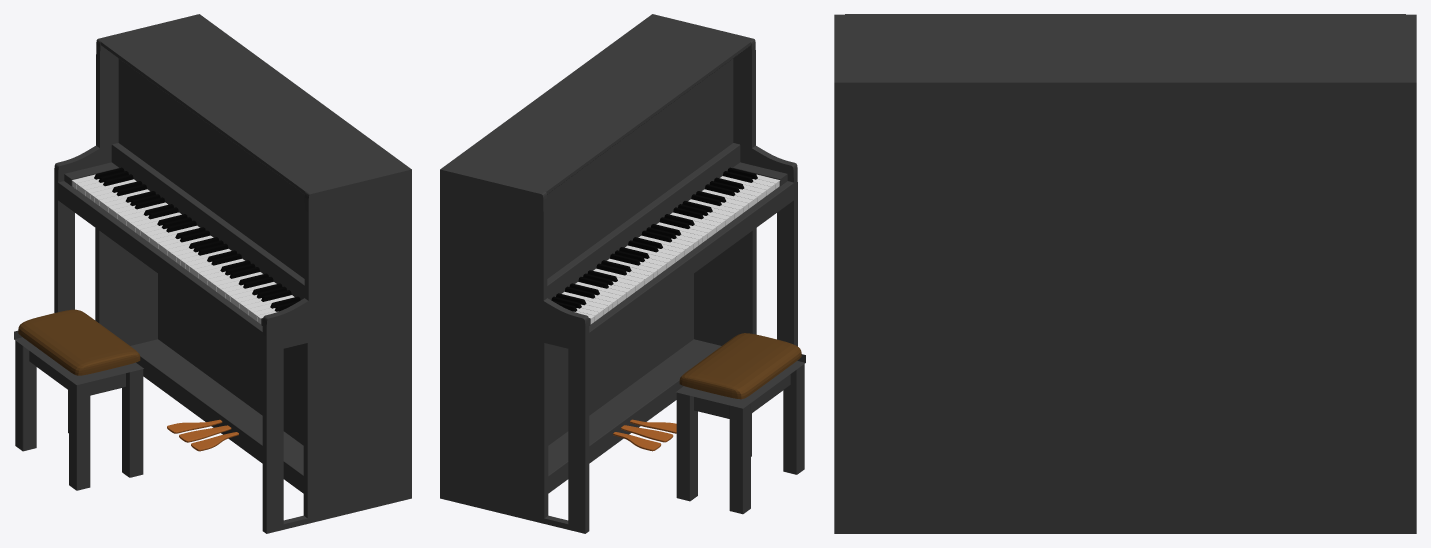
The model's file is Piano.fbx.
3 views of the same model, side by side, from view 1: azimuth 30°, elevation 25°; view 2: azimuth 150°, elevation 25°; view 3: azimuth 270°, elevation 25° (orthographic). The views are drawn at different scales.
Visible parts, largest first — view 1: PianoSeat; view 2: PianoSeat; view 3: PianoSeat.
Boxes of the visible parts, left/top/right/bottom form: PianoSeat: left=14, top=14, right=411, bottom=533; PianoSeat: left=440, top=14, right=805, bottom=533; PianoSeat: left=834, top=14, right=1416, bottom=533.
Size of the model in its own units: 783 by 1008 by 1179.
